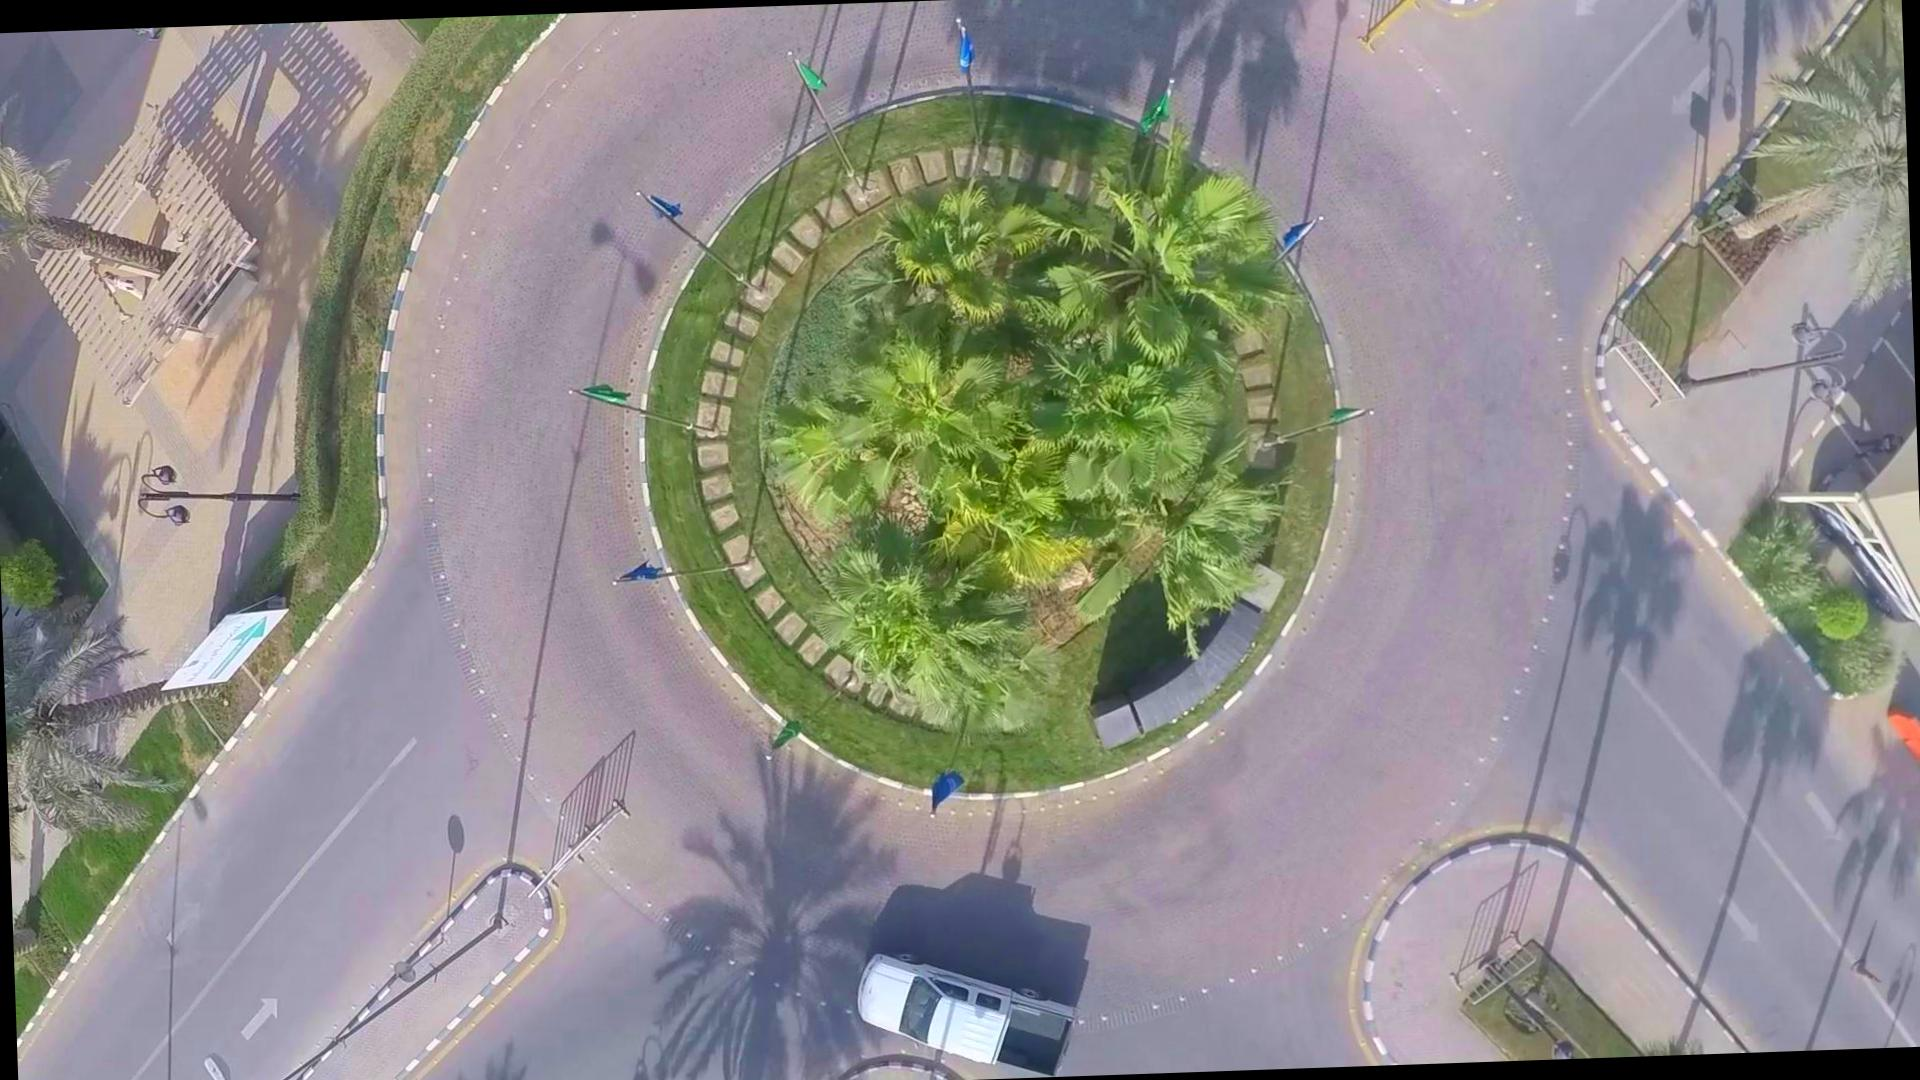vehicle: (839, 926, 1078, 1078)
